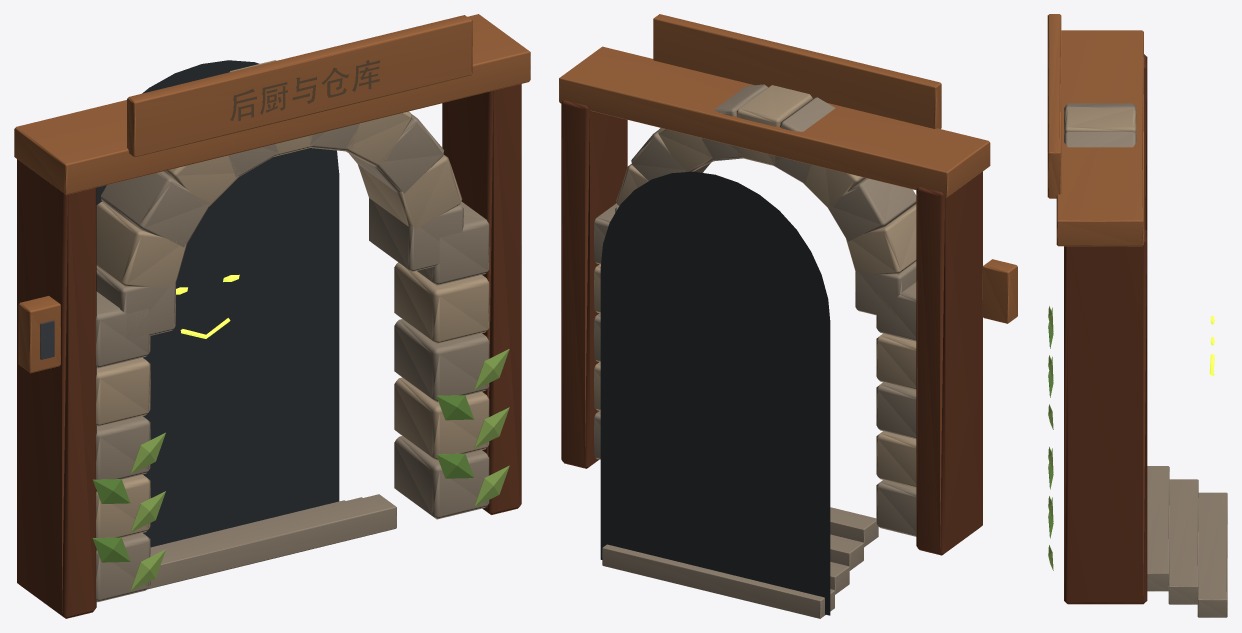
File: basement_portal.fbx
The picture shows the model from 3 angles, left to right: view 1: azimuth 30°, elevation 25°; view 2: azimuth 150°, elevation 25°; view 3: azimuth 270°, elevation 25°; orthographic projection. The views are drawn at different scales.
Visible parts, largest first — view 1: basement_portal; view 2: basement_portal; view 3: basement_portal.
Boxes of the visible parts, box(x1,y1,x2,y2) form: basement_portal: box(14, 14, 530, 618); basement_portal: box(559, 14, 1017, 618); basement_portal: box(1047, 14, 1227, 617).
Bounding box in the file's own units: 233 × 256 × 87.28.
